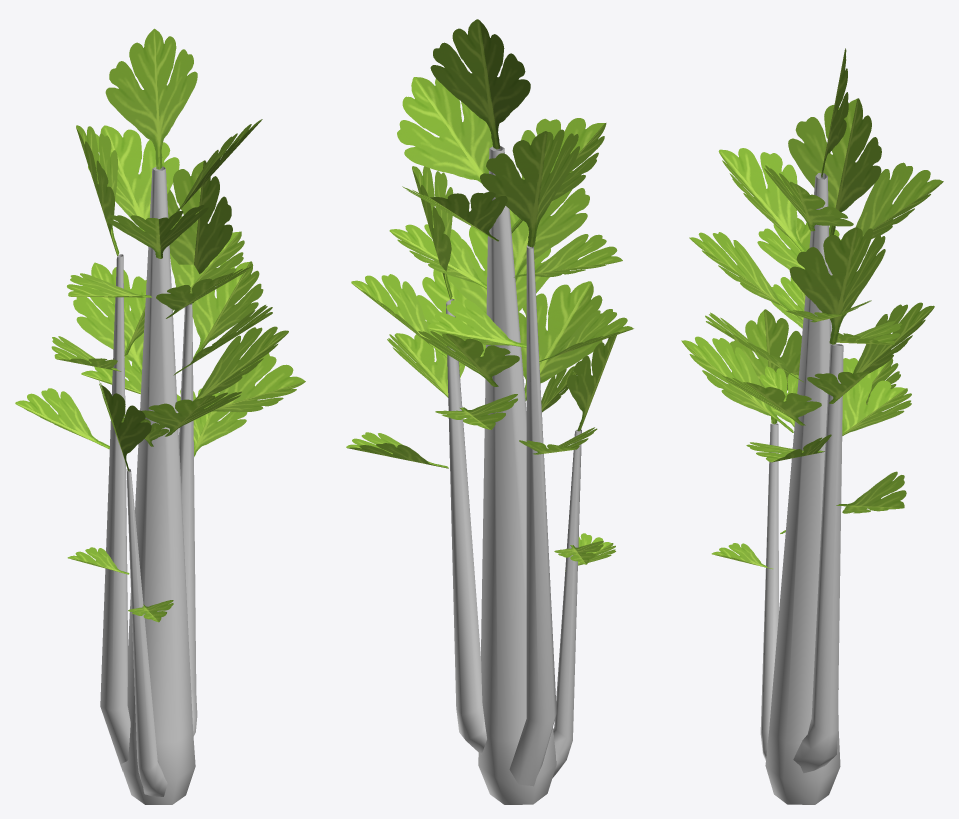
The picture shows the model from 3 angles, left to right: view 1: azimuth 30°, elevation 25°; view 2: azimuth 150°, elevation 25°; view 3: azimuth 270°, elevation 25°; orthographic projection. The views are drawn at different scales.
Visible parts, largest first — view 1: 芹菜03; view 2: 芹菜03; view 3: 芹菜03.
Boxes of the visible parts, <box> form: 芹菜03: <box>15,28,305,804</box>; 芹菜03: <box>346,19,633,804</box>; 芹菜03: <box>681,48,943,804</box>.
Bounding box in the file's own units: 33.33 × 90.24 × 29.21.
Materials: 2 (1 with a texture image).
